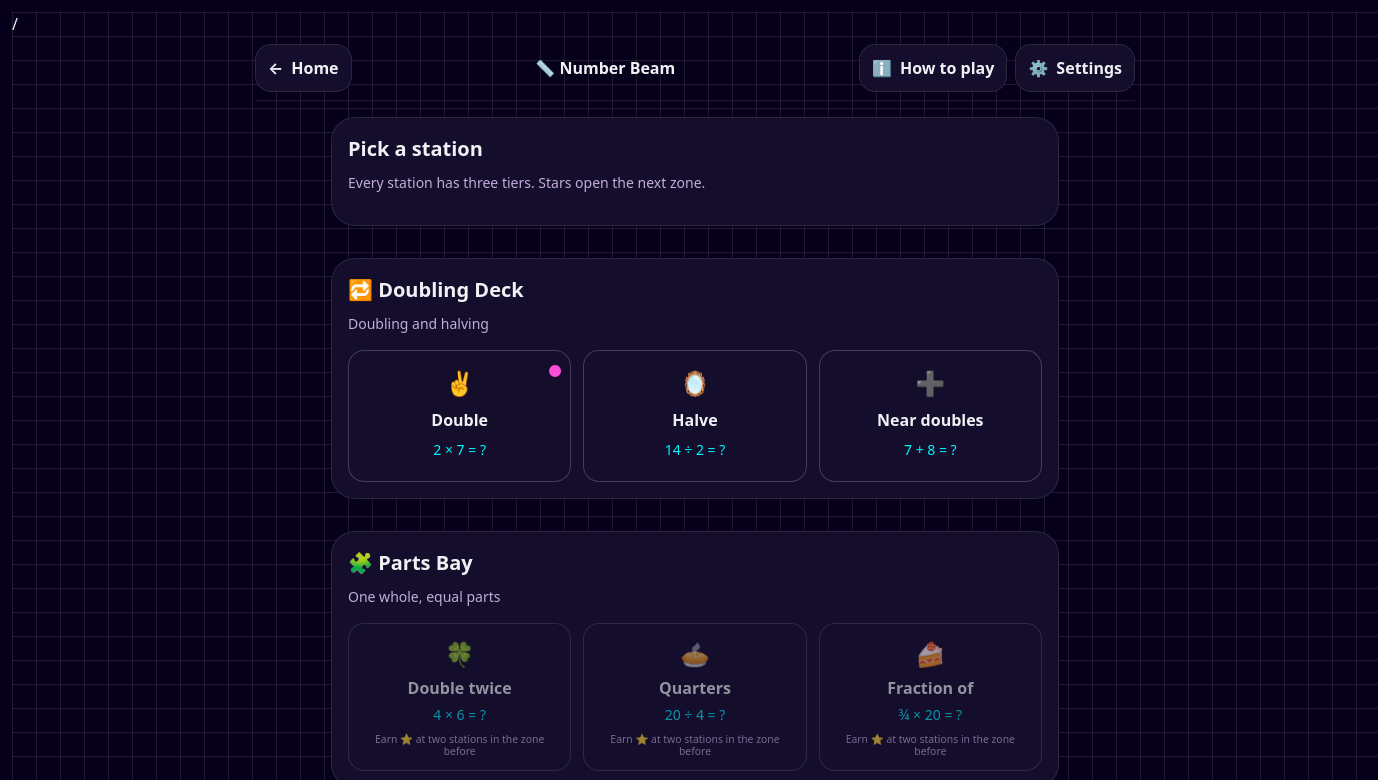
Test case: NumberBeamPage › sends the player into the drill for the station they tap
Click the button "🪞 Halve 14 ÷ 2 = ?" at (695, 416), box [583,350,807,482]
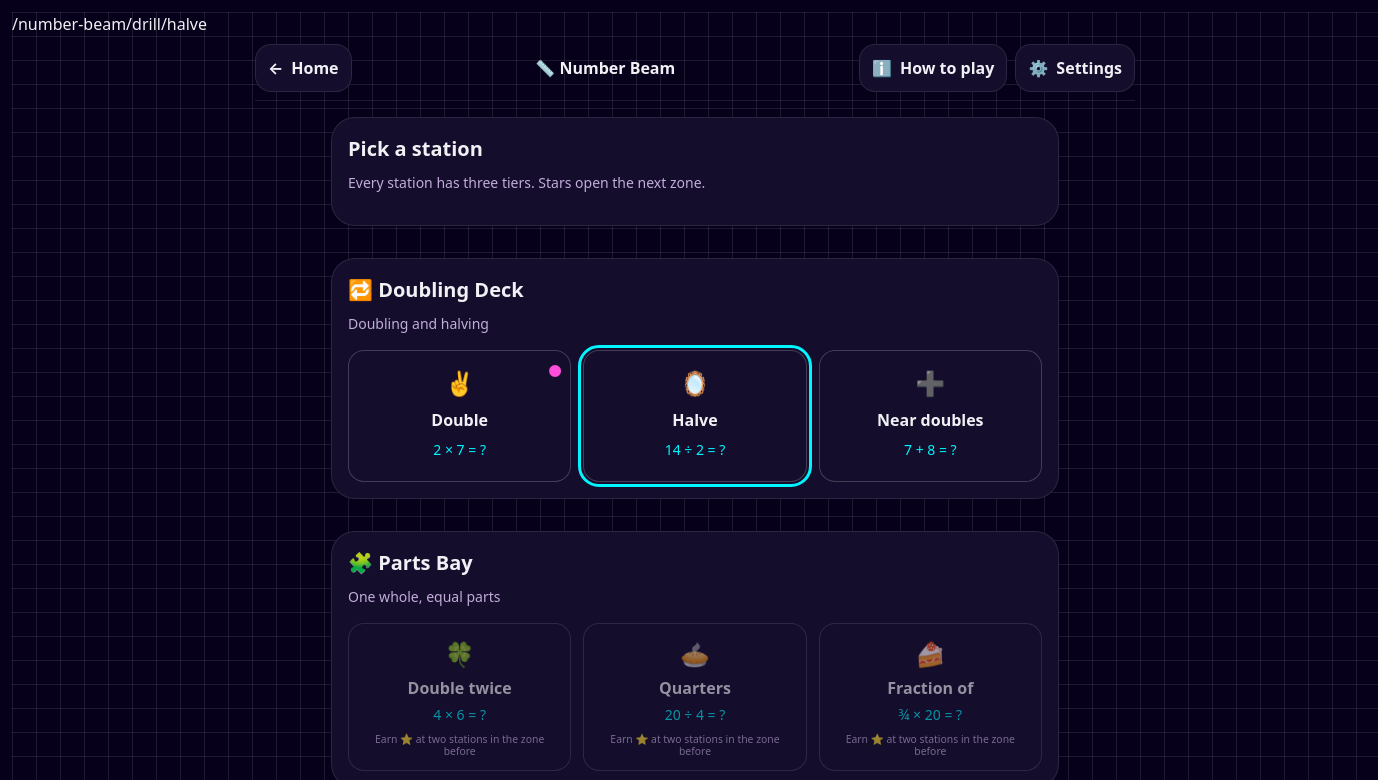
Now the text with test id "test-location" reads "/number-beam/drill/halve", box [12,13,207,35]
